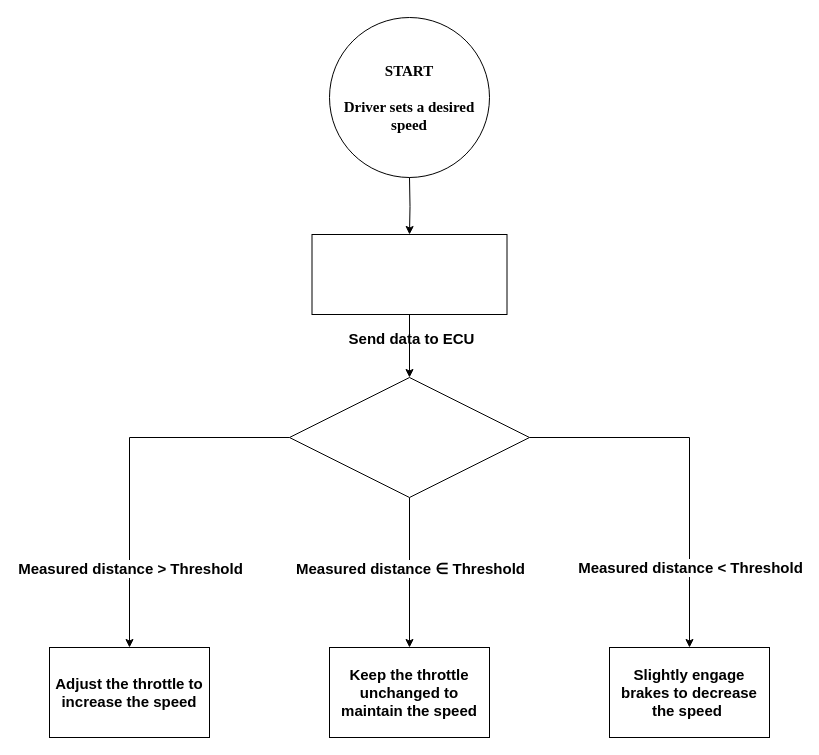
Some shapes in this 819 by 755 pixel diagram are drawn without their labels. Each missing label, with the centre of its shape:
"Measured distance and threshold comparison" belongs at pixel 409 437.
"Sensors measure the following distance" belongs at pixel 409 274.
